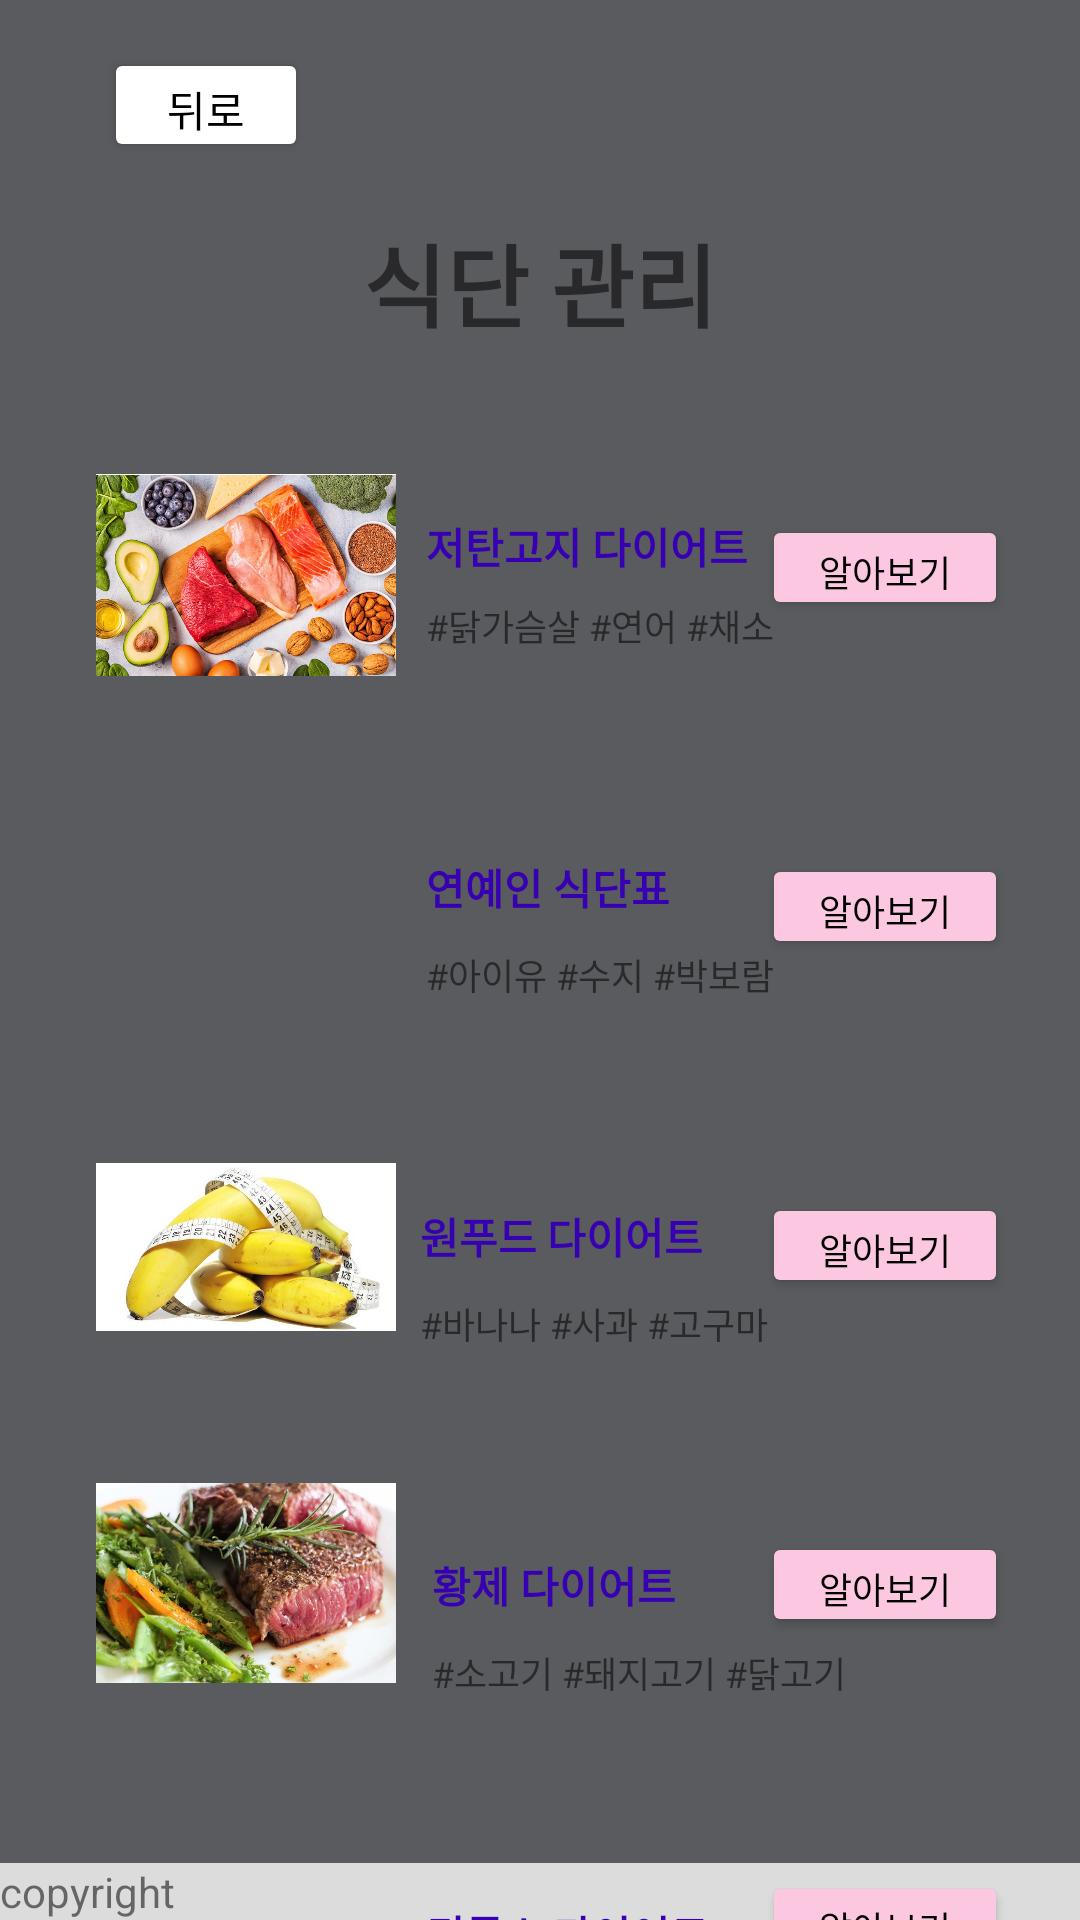

Icons on this 1080x1920 Android screen, each with the point to tap as [x,y]:
food: [246,575], [246,1247], [246,1583]
